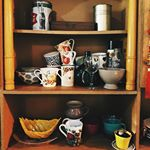cups: (33, 66, 61, 89), (55, 65, 78, 89), (57, 48, 78, 66), (52, 37, 77, 52)
